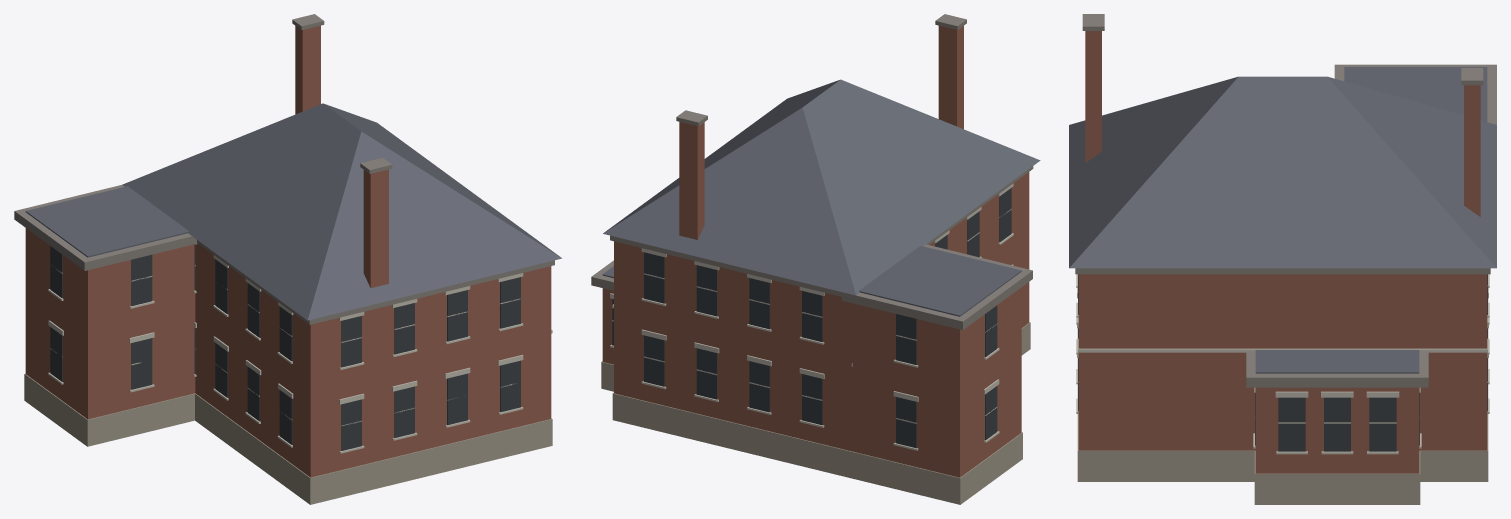
File: house_1836_calumet__draft_1904.glb
3 views of the same model, side by side, from view 1: azimuth 30°, elevation 25°; view 2: azimuth 150°, elevation 25°; view 3: azimuth 270°, elevation 25° (orthographic). The views are drawn at different scales.
Visible parts, largest first — view 1: house_1836_calumet__draft_1904; view 2: house_1836_calumet__draft_1904; view 3: house_1836_calumet__draft_1904.
Part boxes in pixels (<box>): house_1836_calumet__draft_1904: <box>14,14,561,504</box>; house_1836_calumet__draft_1904: <box>591,14,1040,504</box>; house_1836_calumet__draft_1904: <box>1069,14,1496,504</box>.
Bounding box in the file's own units: 19.7 × 14.84 × 15.7.
